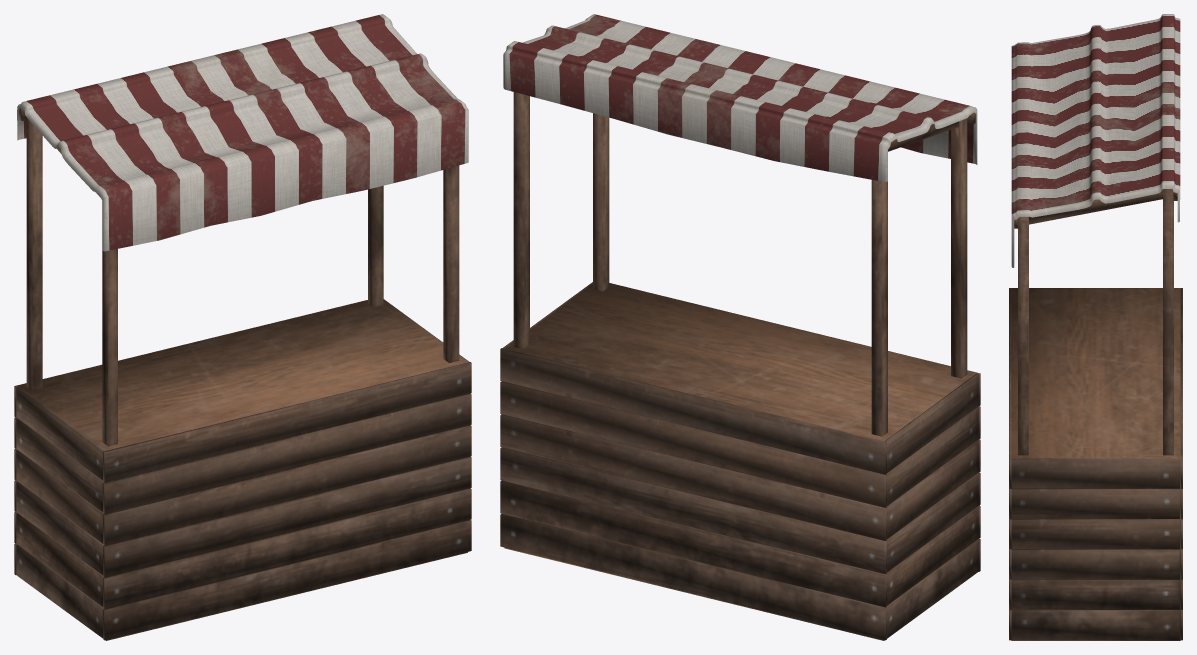
Rendered from market_stall.glb.
3 views of the same model, side by side, from view 1: azimuth 30°, elevation 25°; view 2: azimuth 150°, elevation 25°; view 3: azimuth 270°, elevation 25° (orthographic). The views are drawn at different scales.
Parts seen in each view (by area): view 1: Stall_Stall_0; view 2: Stall_Stall_0; view 3: Stall_Stall_0.
Part boxes in pixels (x1=…): Stall_Stall_0: x1=14, y1=14, x2=471, y2=640; Stall_Stall_0: x1=500, y1=14, x2=980, y2=640; Stall_Stall_0: x1=1009, y1=14, x2=1182, y2=640.
Bounding box in the file's own units: 4.33 × 5.37 × 1.85.
Materials: 4 (4 with a texture image).
